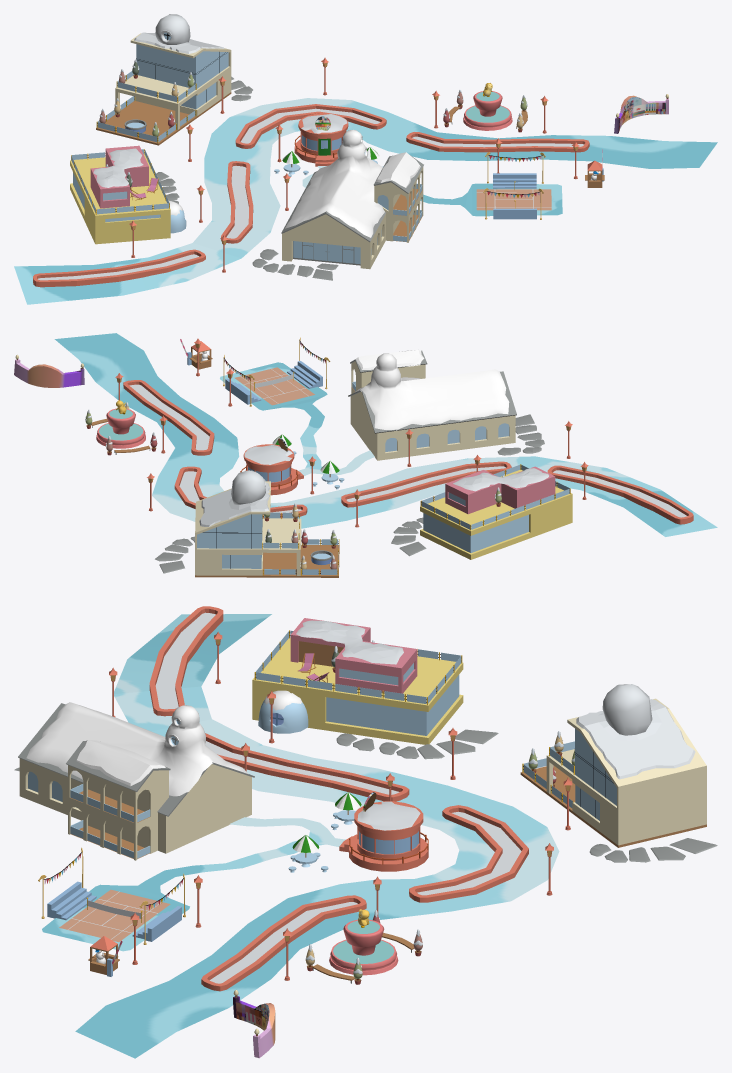
Rendered from Neighborhood_BeverlyChills_02.fbx.
The picture shows the model from 3 angles, top to bottom: view 1: azimuth 30°, elevation 25°; view 2: azimuth 150°, elevation 25°; view 3: azimuth 270°, elevation 25°; orthographic projection. The views are drawn at different scales.
Visible parts, largest first — view 1: BeverlyChillsRoad_02, polySurface154, Building_LuxuryHouse2Story1, Object_RoadIslands, Building_LuxuryHouse3, Building_RoundCoffeeShop1, Building_TennisCourt, Object_Pavement, BeverlyChillsRoad_01, Object_Fountain1, polySurface155, Building_TennisCourt1; view 2: BeverlyChillsRoad_02, polySurface154, Building_LuxuryHouse2Story1, Building_LuxuryHouse3, Object_RoadIslands, BeverlyChillsRoad_01, Object_Pavement, Building_TennisCourt, Building_RoundCoffeeShop1, Object_Fountain1, polySurface155, Building_Ramp (+1 smaller); view 3: BeverlyChillsRoad_02, polySurface154, Building_LuxuryHouse2Story1, Building_LuxuryHouse3, Object_RoadIslands, Building_RoundCoffeeShop1, BeverlyChillsRoad_01, Building_TennisCourt, Object_Pavement, Object_Fountain1, Building_Igloo6, polySurface155 (+2 smaller).
Part boxes in pixels (x1=…): BeverlyChillsRoad_02: x1=14, y1=98, x2=717, y2=304; polySurface154: x1=281, y1=129, x2=423, y2=269; Building_LuxuryHouse2Story1: x1=96, y1=14, x2=231, y2=145; Object_RoadIslands: x1=33, y1=104, x2=589, y2=287; Building_LuxuryHouse3: x1=70, y1=145, x2=170, y2=244; Building_RoundCoffeeShop1: x1=294, y1=113, x2=348, y2=166; Building_TennisCourt: x1=476, y1=181, x2=551, y2=219; Object_Pavement: x1=156, y1=76, x2=338, y2=280; BeverlyChillsRoad_01: x1=302, y1=166, x2=562, y2=216; Object_Fountain1: x1=463, y1=91, x2=512, y2=130; polySurface155: x1=614, y1=95, x2=668, y2=133; Building_TennisCourt1: x1=493, y1=173, x2=536, y2=188; BeverlyChillsRoad_02: x1=54, y1=333, x2=717, y2=536; polySurface154: x1=348, y1=349, x2=516, y2=460; Building_LuxuryHouse2Story1: x1=195, y1=470, x2=339, y2=577; Building_LuxuryHouse3: x1=420, y1=464, x2=572, y2=559; Object_RoadIslands: x1=123, y1=380, x2=693, y2=524; BeverlyChillsRoad_01: x1=220, y1=362, x2=374, y2=475; Object_Pavement: x1=155, y1=414, x2=544, y2=573; Building_TennisCourt: x1=235, y1=361, x2=322, y2=405; Building_RoundCoffeeShop1: x1=243, y1=444, x2=303, y2=495; Object_Fountain1: x1=96, y1=408, x2=145, y2=448; polySurface155: x1=14, y1=359, x2=84, y2=387; Building_Ramp: x1=180, y1=339, x2=212, y2=369; BeverlyChillsRoad_02: x1=75, y1=614, x2=559, y2=1058; polySurface154: x1=18, y1=702, x2=254, y2=860; Building_LuxuryHouse2Story1: x1=520, y1=684, x2=706, y2=847; Building_LuxuryHouse3: x1=252, y1=618, x2=463, y2=744; Object_RoadIslands: x1=149, y1=606, x2=528, y2=991; Building_RoundCoffeeShop1: x1=339, y1=801, x2=428, y2=871; BeverlyChillsRoad_01: x1=42, y1=817, x2=345, y2=951; Building_TennisCourt: x1=47, y1=881, x2=170, y2=942; Object_Pavement: x1=14, y1=729, x2=717, y2=862; Object_Fountain1: x1=329, y1=919, x2=398, y2=975; Building_Igloo6: x1=258, y1=690, x2=308, y2=733; polySurface155: x1=233, y1=995, x2=275, y2=1058.
Size of the model in its own units: 6628 by 920 by 4300.
